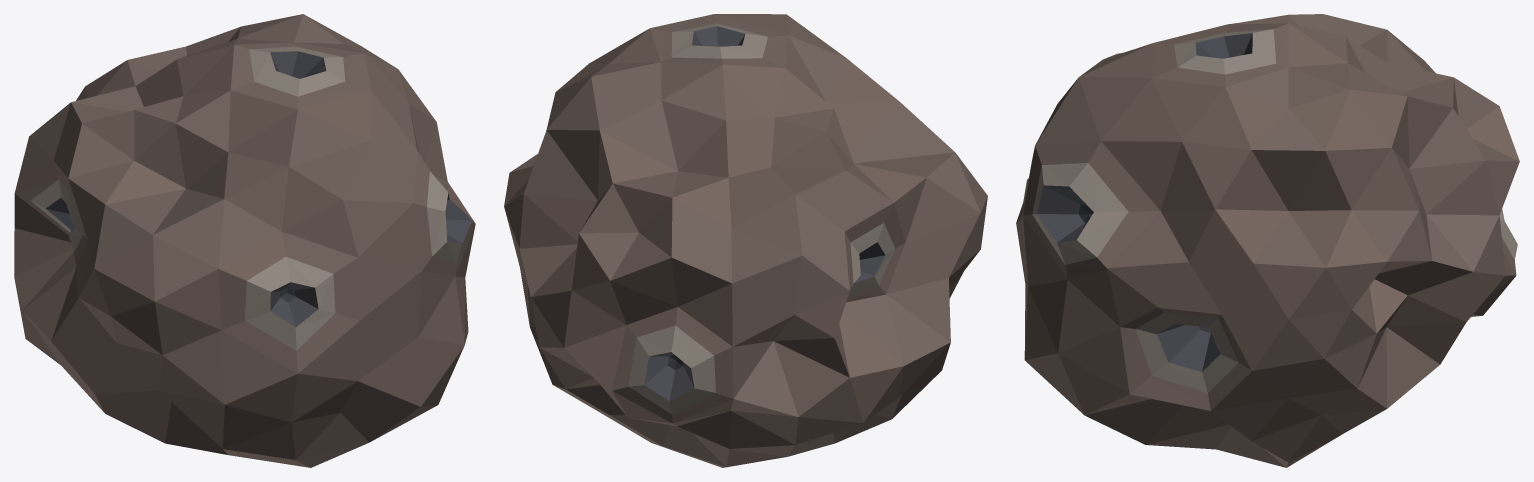
File: medium-asteroid-ba674f.glb
3 renders of one model, left to right at view 1: azimuth 30°, elevation 25°; view 2: azimuth 150°, elevation 25°; view 3: azimuth 270°, elevation 25°, orthographic. The views are drawn at different scales.
Parts seen in each view (by area): view 1: asteroid-body; view 2: asteroid-body; view 3: asteroid-body.
Part boxes in pixels (x1,y1,x2,y2): asteroid-body: [14, 14, 475, 467]; asteroid-body: [504, 14, 987, 467]; asteroid-body: [1016, 14, 1519, 467].
Bounding box in the file's own units: 4.83 × 4.55 × 5.
